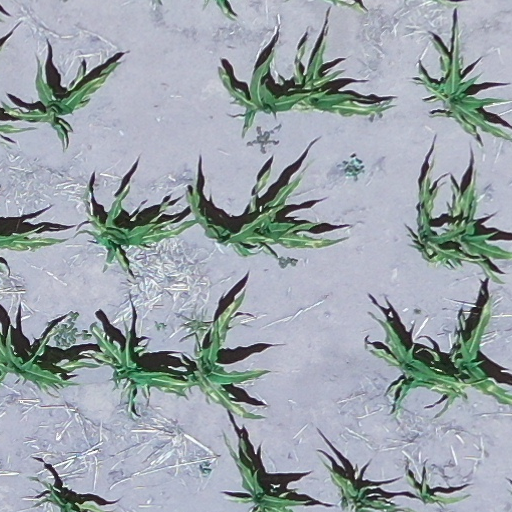planta: (364, 312, 490, 416), (74, 180, 201, 279), (81, 320, 203, 422), (1, 54, 118, 152), (185, 289, 271, 419), (219, 48, 333, 137), (185, 162, 287, 261), (406, 156, 487, 270), (292, 32, 397, 116), (248, 165, 345, 249), (406, 469, 469, 504)
